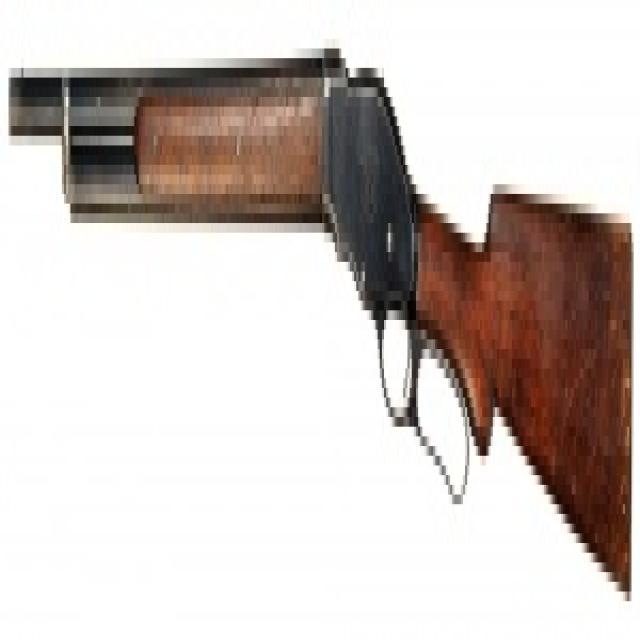rifle: (1, 1, 637, 622)
